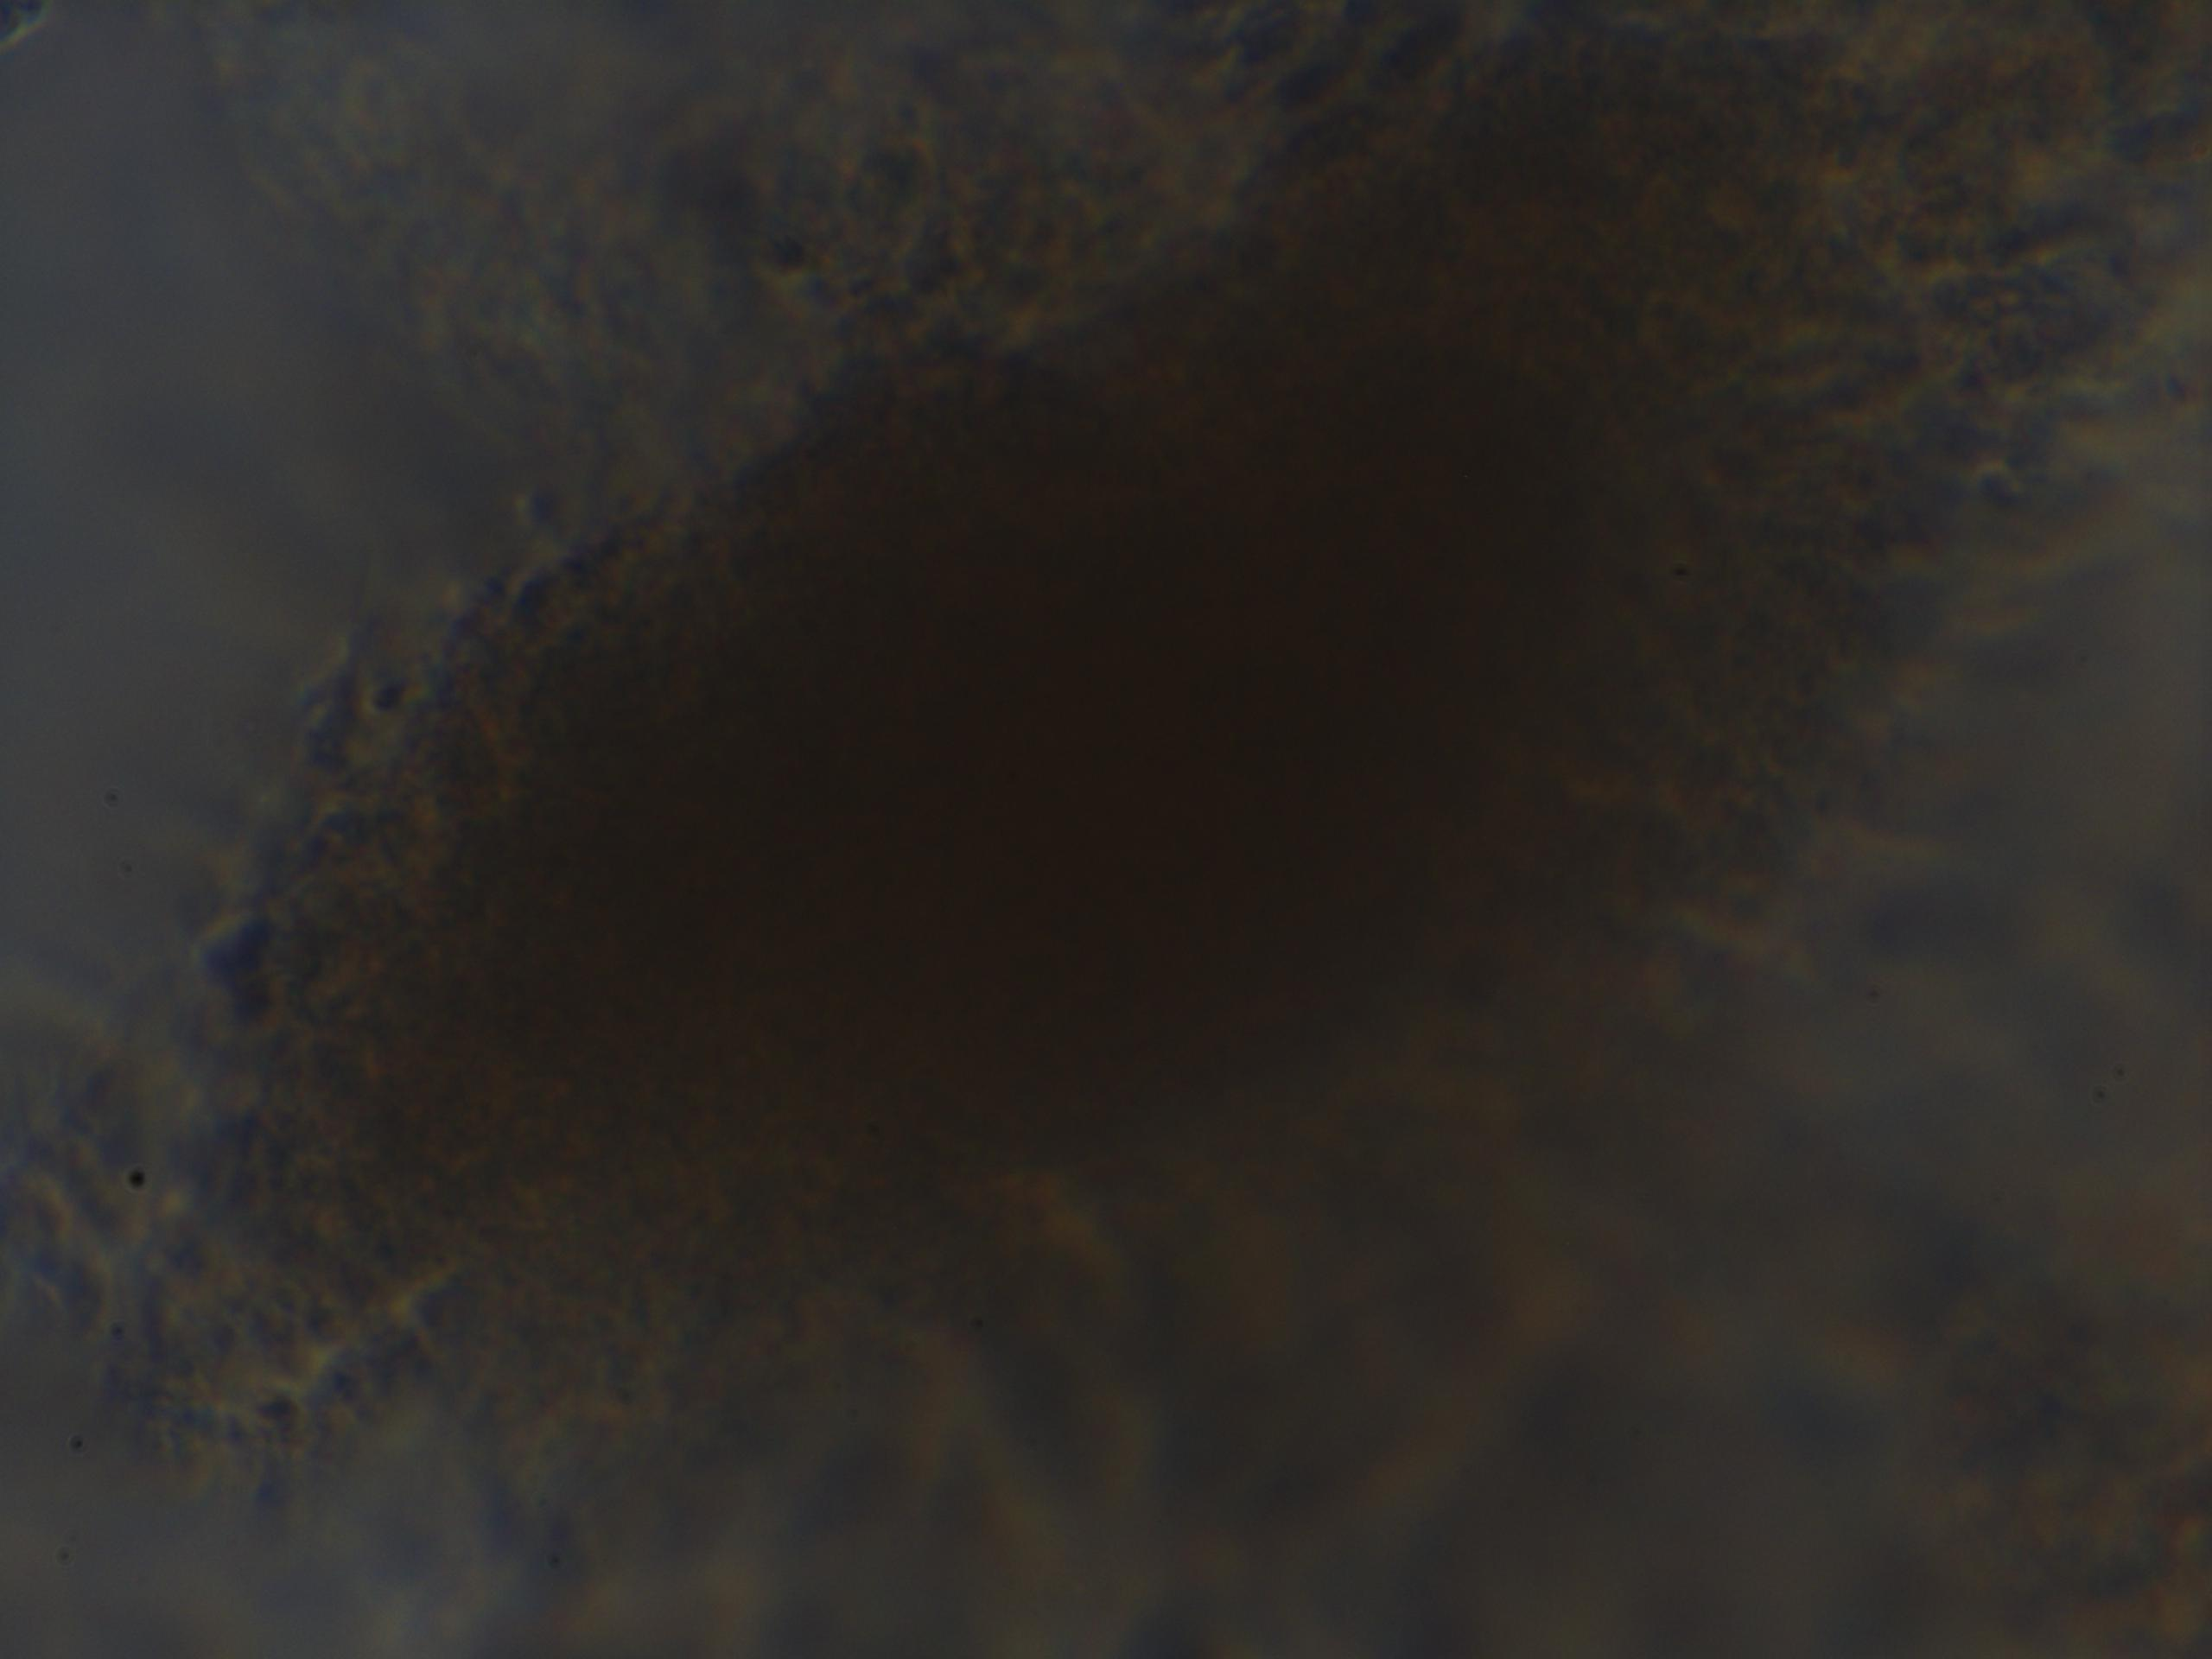spherical_floc: (138, 0, 2081, 1462)
